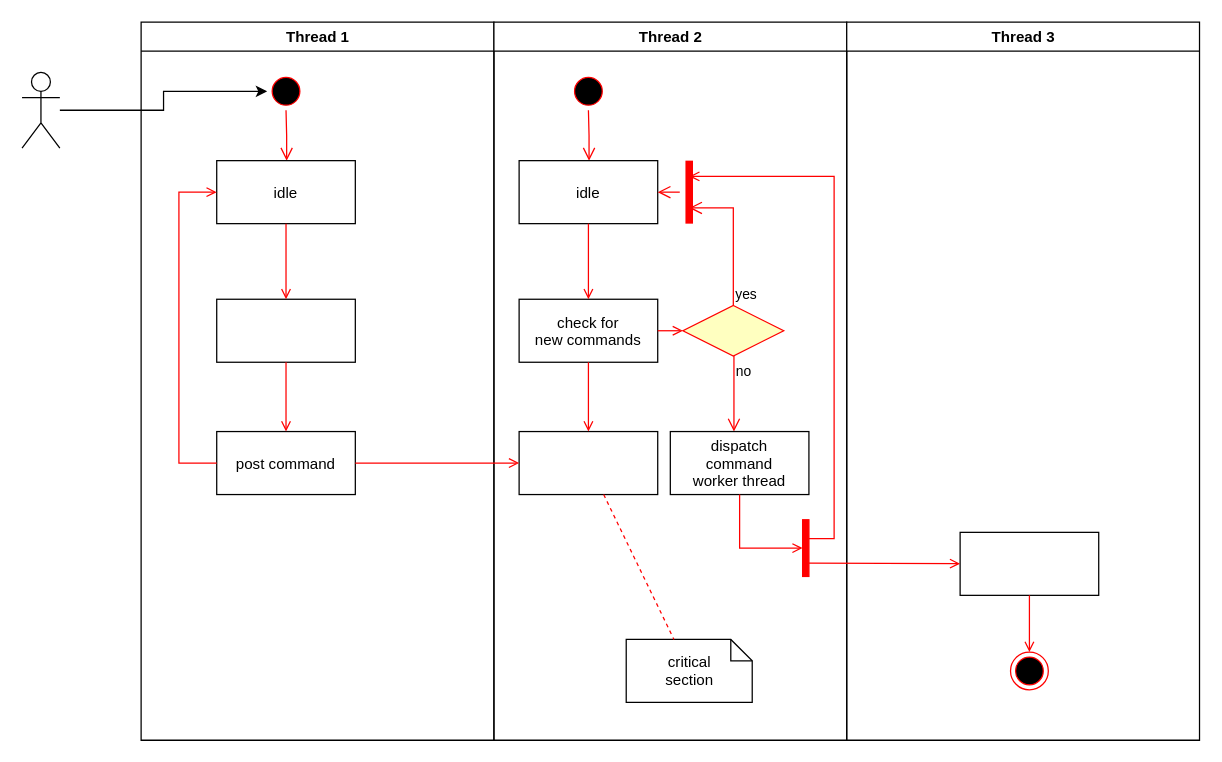
Image size: 1222x762. Some labels were removed from this diagram. The shapes that lost their labels are listed below. From the top down, each one's centre as x and y in pixels, then its label:
[40,109]: Actor
[285,330]: user action
[733,330]: queue empty
[588,462]: command queue
[1029,563]: process command
